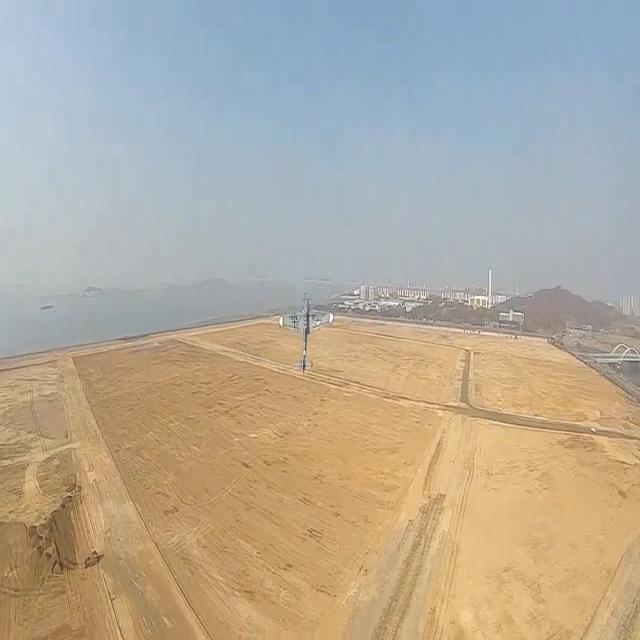iha: (302, 326, 305, 352)
